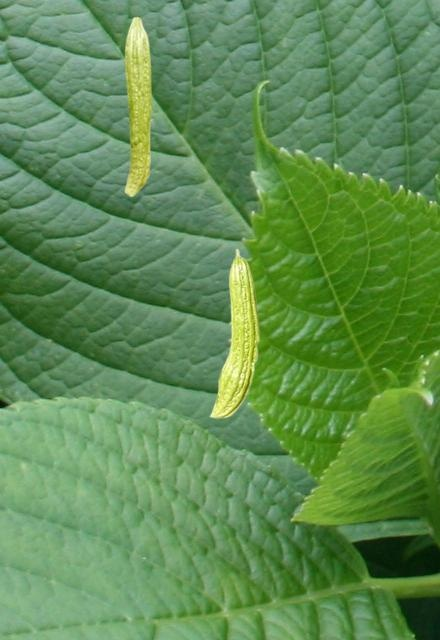ampalaya: (209, 247, 261, 420), (124, 16, 152, 197)
